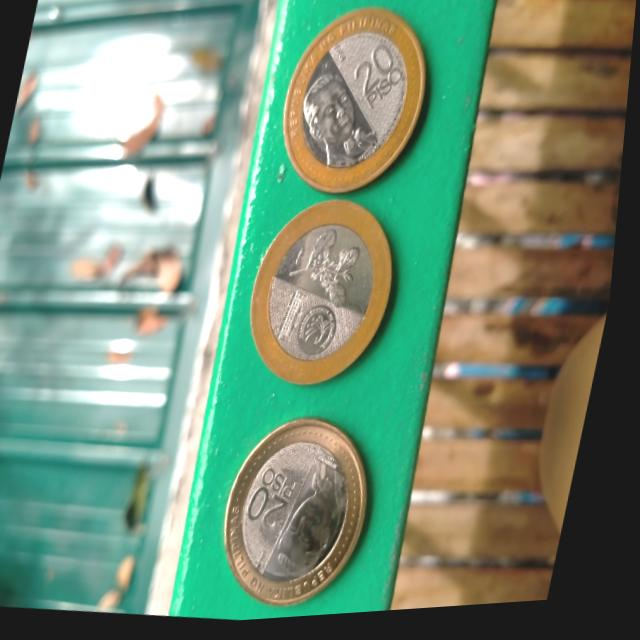20_New_Back: (274, 222, 380, 315)
20_New_Front: (242, 460, 317, 546), (344, 34, 415, 119)
